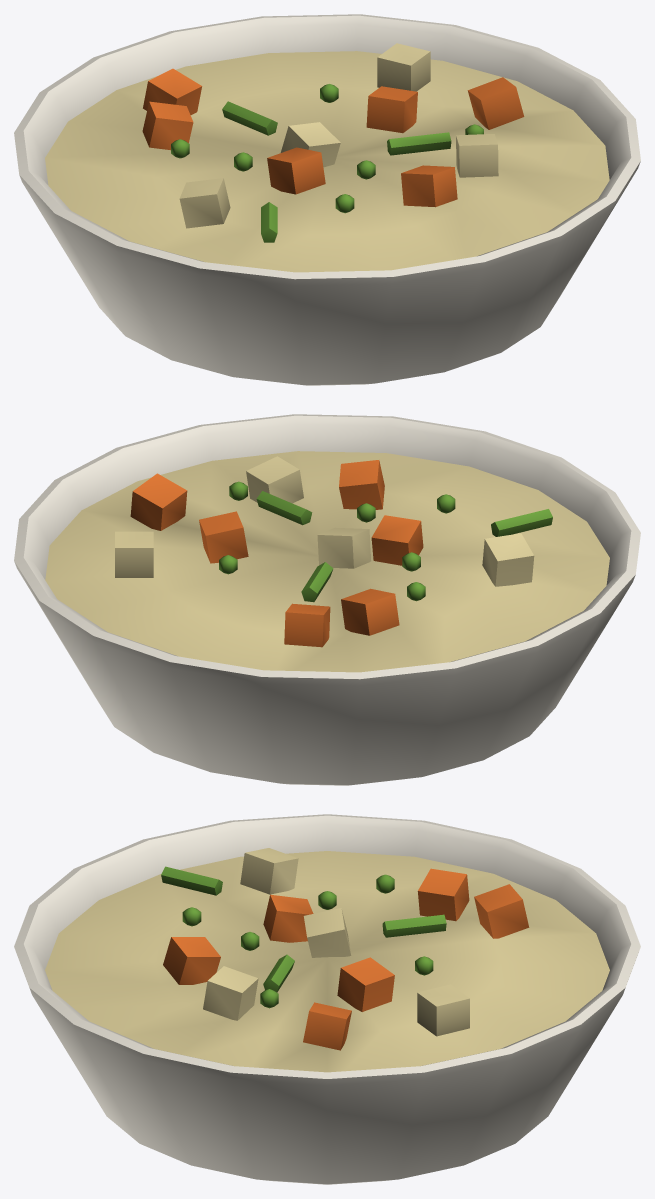
Rendered from prepBowl.glb.
3 renders of one model, top to bottom at view 1: azimuth 30°, elevation 25°; view 2: azimuth 150°, elevation 25°; view 3: azimuth 270°, elevation 25°, orthographic.
Visible parts, largest first — view 1: prepBowl; view 2: prepBowl; view 3: prepBowl.
Part boxes in pixels (left/top/right/bottom): prepBowl: left=14, top=14, right=640, bottom=385; prepBowl: left=14, top=414, right=640, bottom=785; prepBowl: left=14, top=814, right=640, bottom=1184.
Bounding box in the file's own units: 0.324 × 0.1048 × 0.324.
